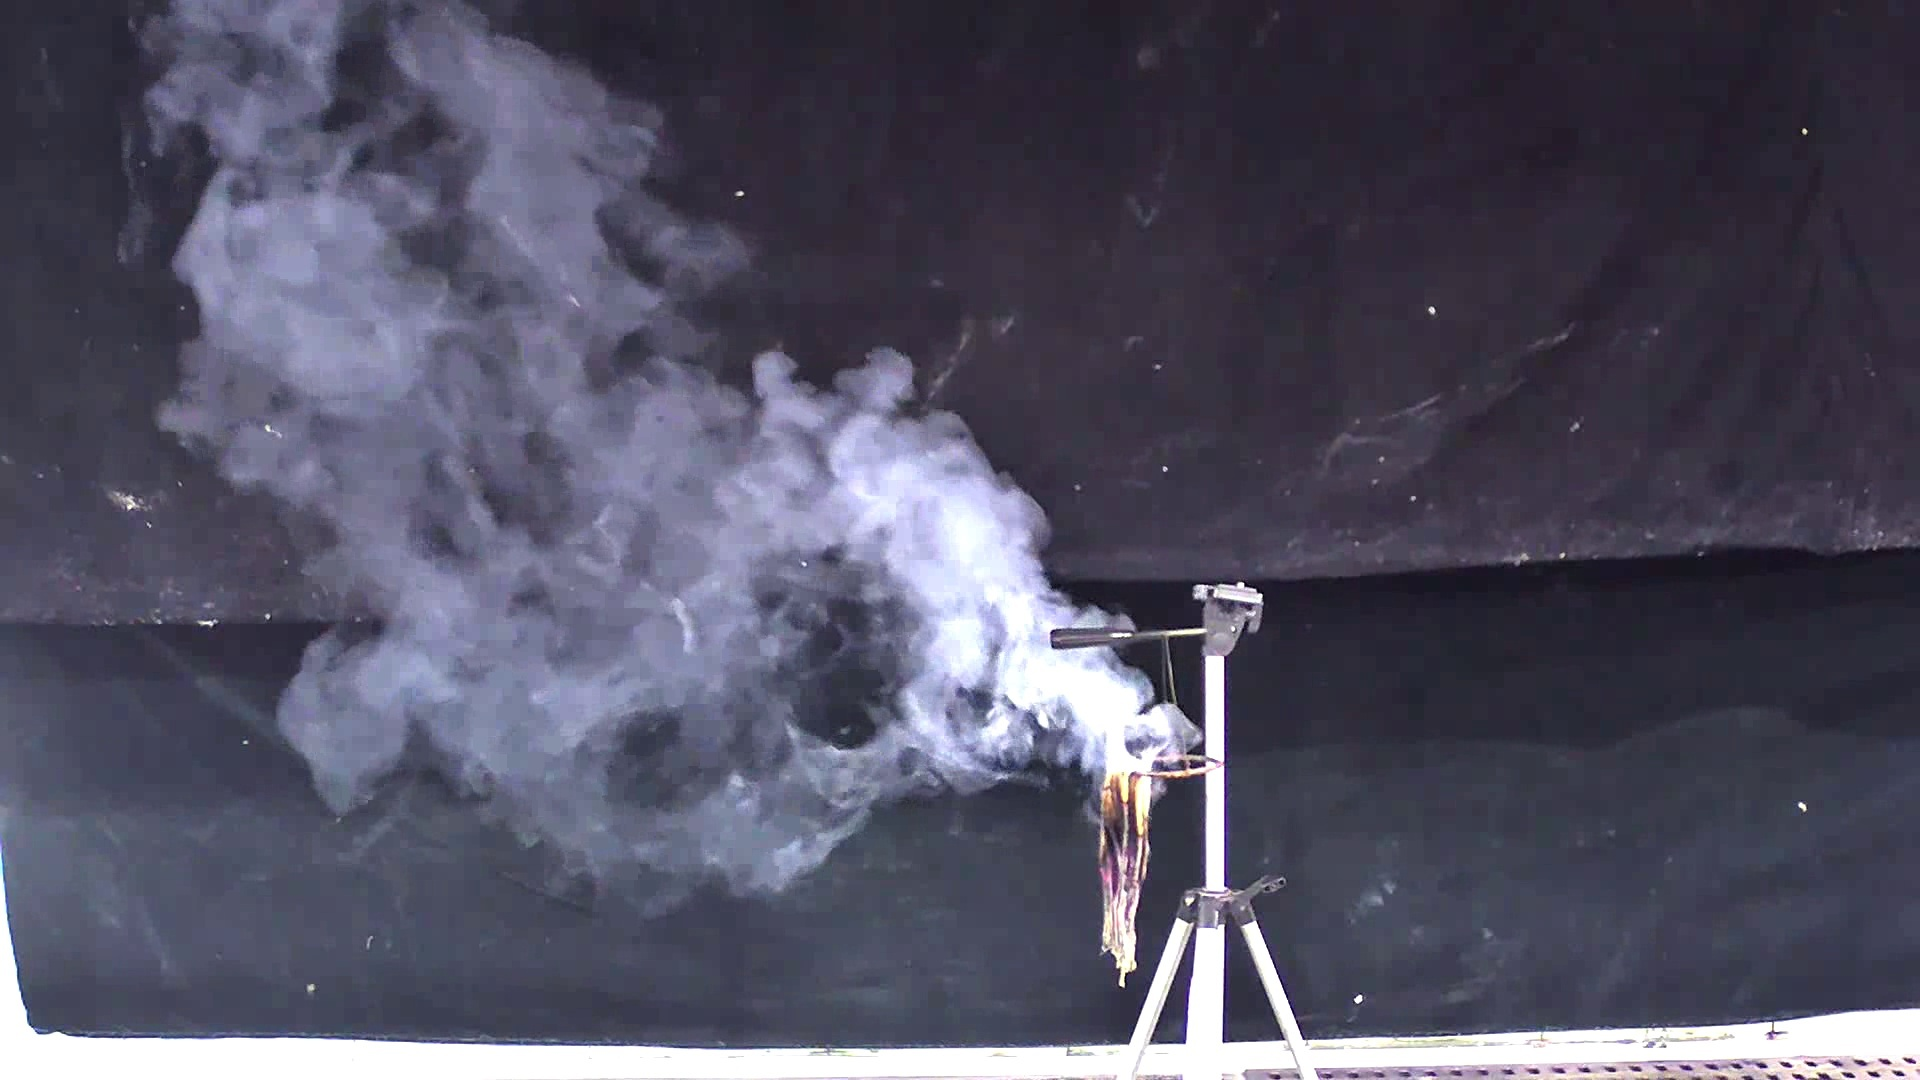smoke: (125, 11, 1189, 893)
